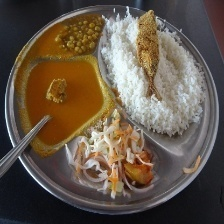rice: (97, 3, 209, 143)
